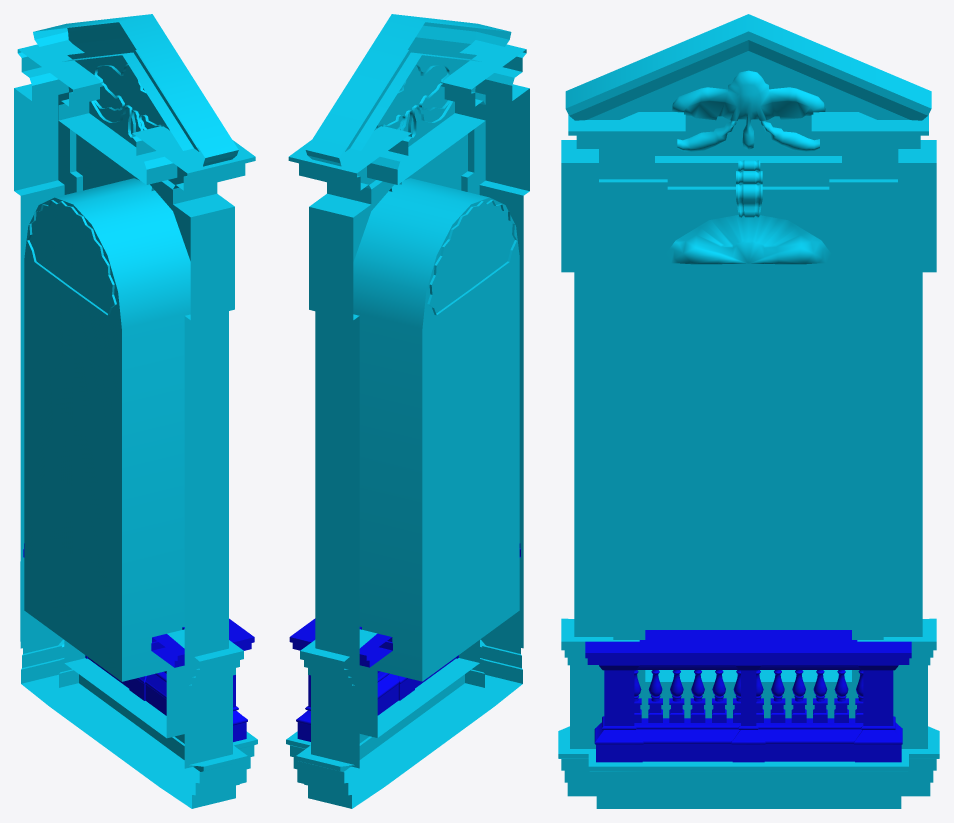
The model's file is Window02.FBX.
The picture shows the model from 3 angles, left to right: view 1: azimuth 30°, elevation 25°; view 2: azimuth 150°, elevation 25°; view 3: azimuth 270°, elevation 25°; orthographic projection. The views are drawn at different scales.
Parts seen in each view (by area): view 1: Object062; view 2: Object062; view 3: Object062.
Part boxes in pixels (box(x1,y1,x2,y2)): Object062: box(14, 14, 257, 808); Object062: box(286, 14, 529, 808); Object062: box(558, 14, 939, 808).
Bounding box in the file's own units: 168 × 1040 × 469.
